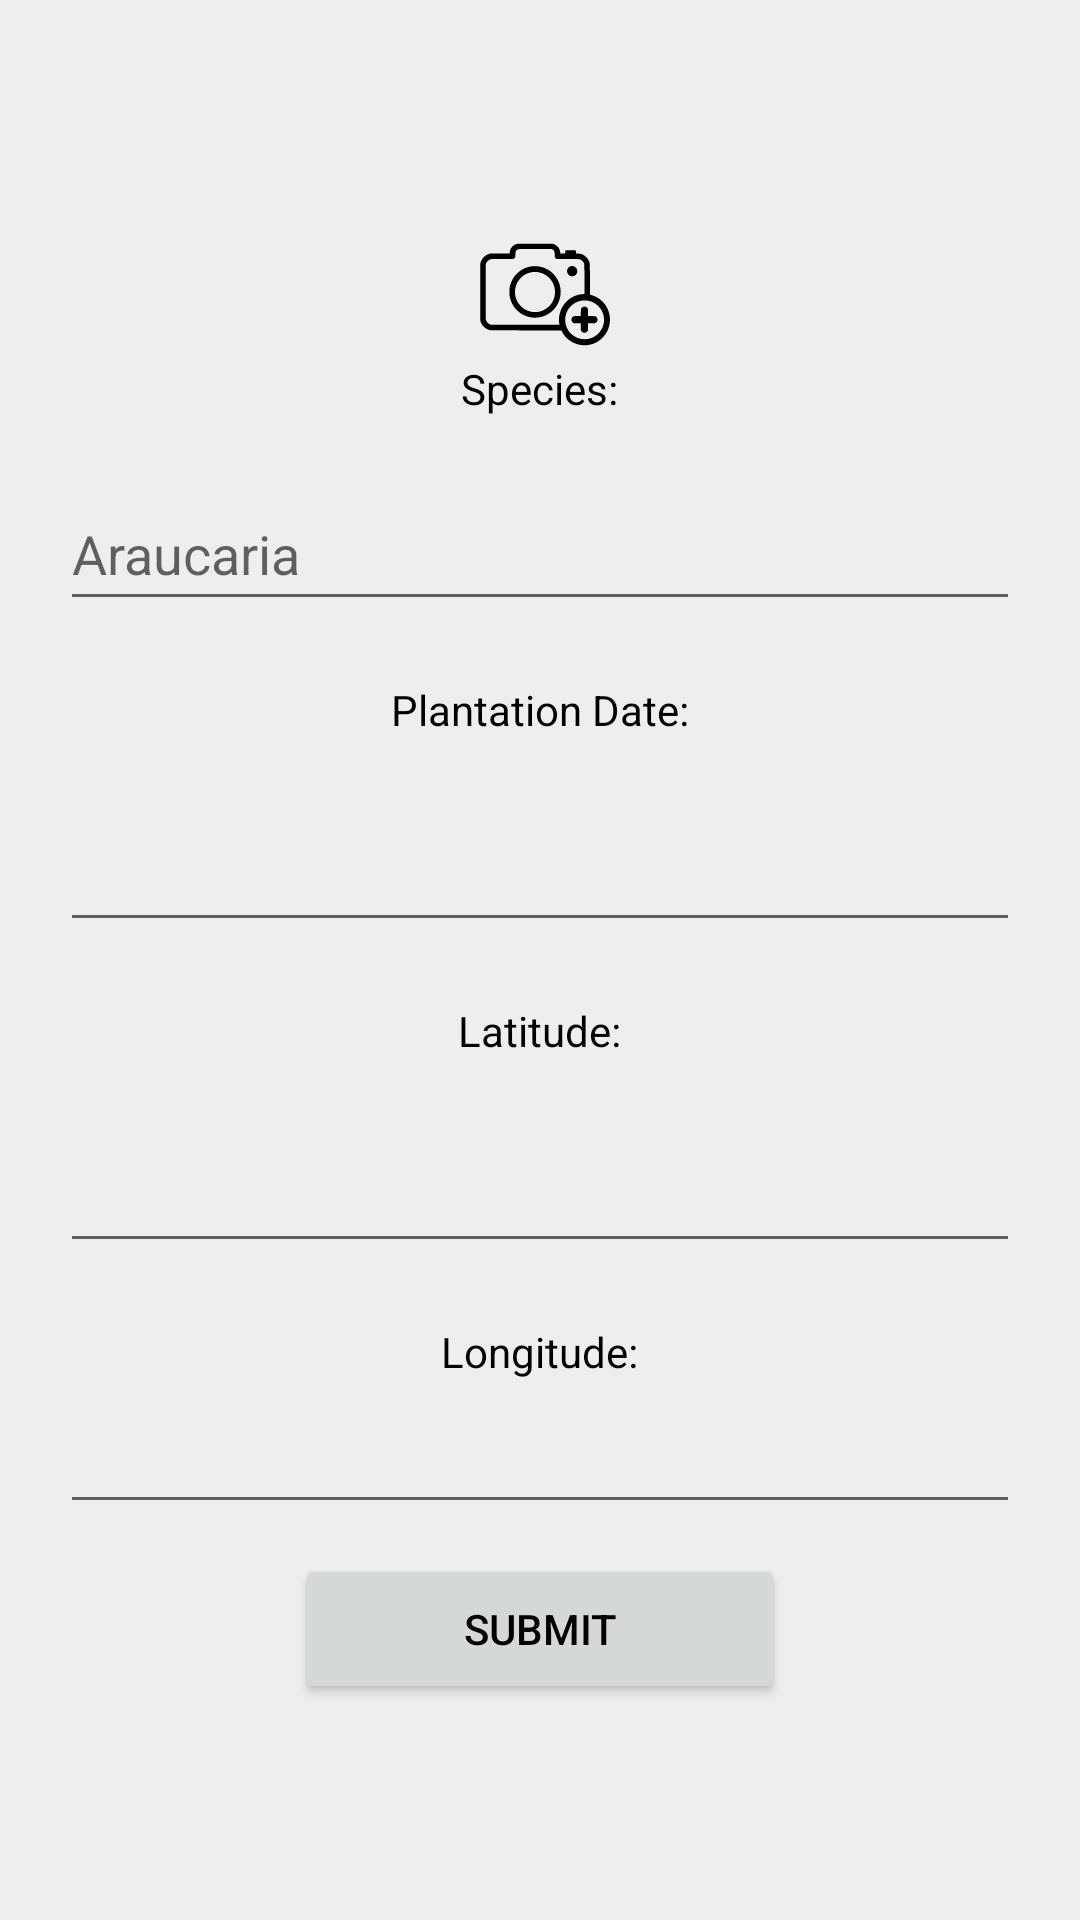

Screen size 1080x1920. Icon name, then its box in pixels as (x1, y1, x2, y2):
add photo: (480, 243, 610, 346)
